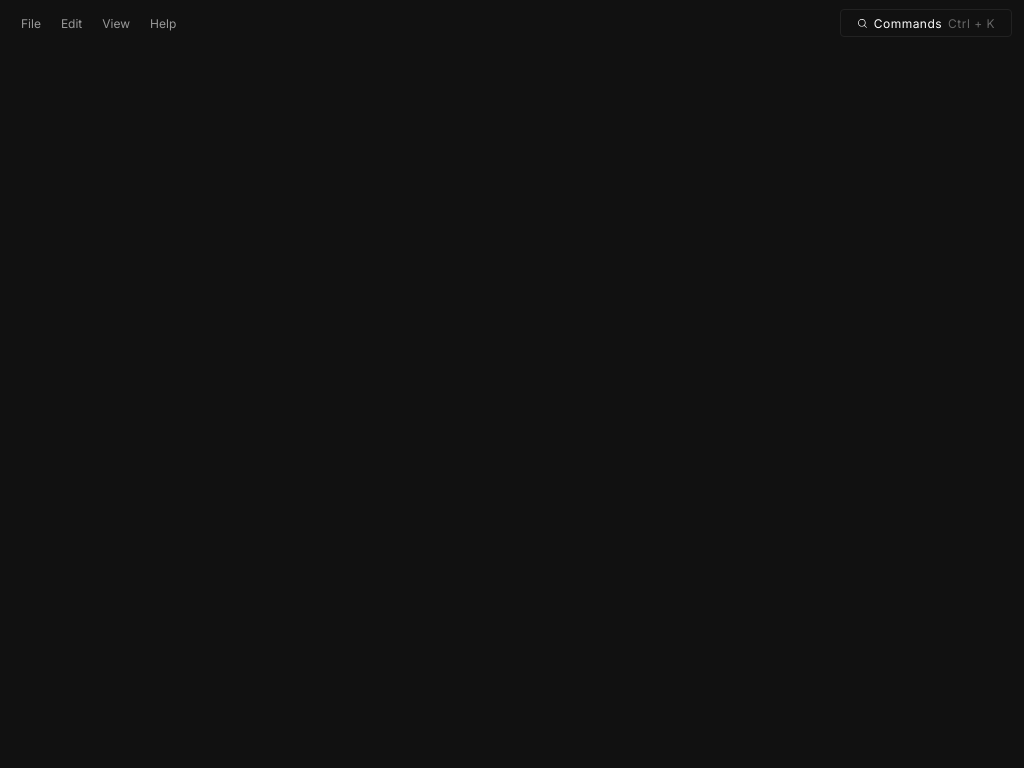
Test: context-aware application masthead › gives the reachable setup route menus, Help, a palette, and preserved navigation
Check: the button "Coda" is not shown
Click the menu item "File": (31, 23) x1=12 y1=9 x2=50 y2=37
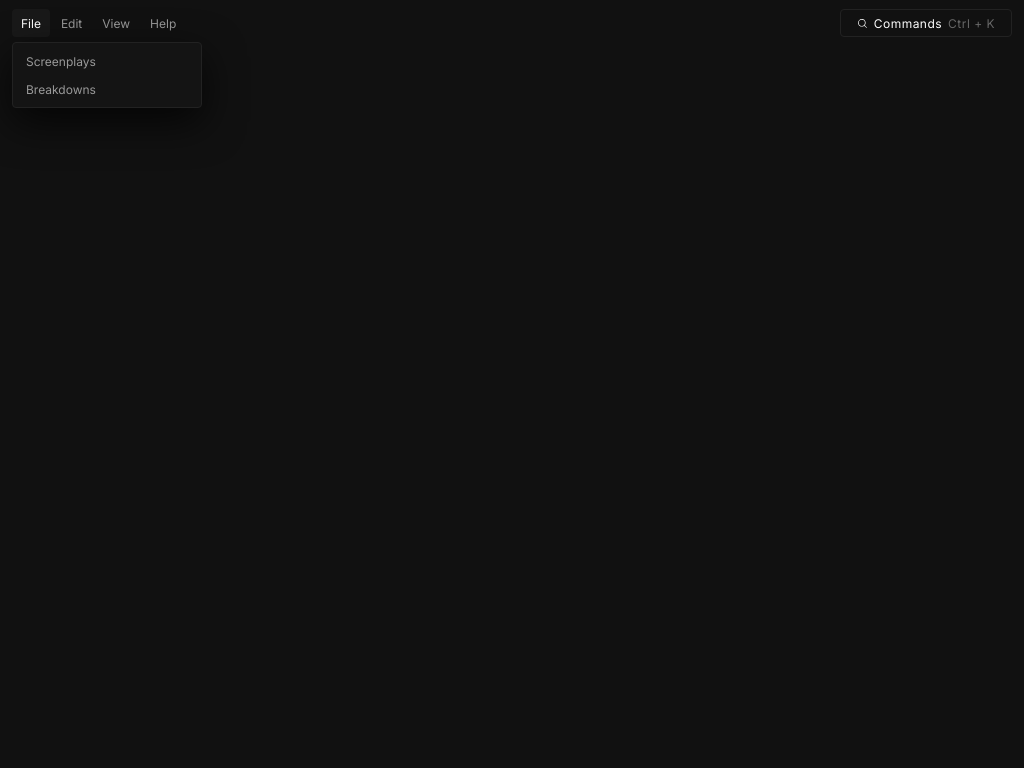
Click the menu item "Screenplays": (107, 61) x1=17 y1=47 x2=197 y2=75
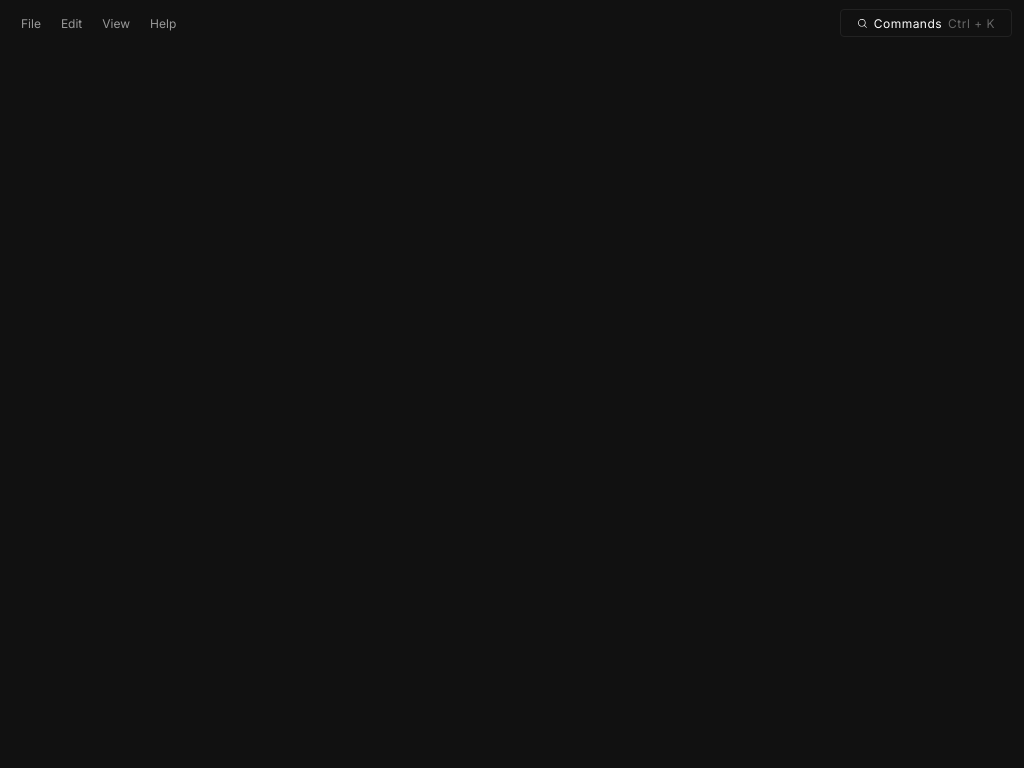
Check: the menu item "Help" is shown, box x1=141 y1=9 x2=185 y2=37
Click the button with aria-label "Open the command palette": (926, 23) x1=840 y1=9 x2=1012 y2=37
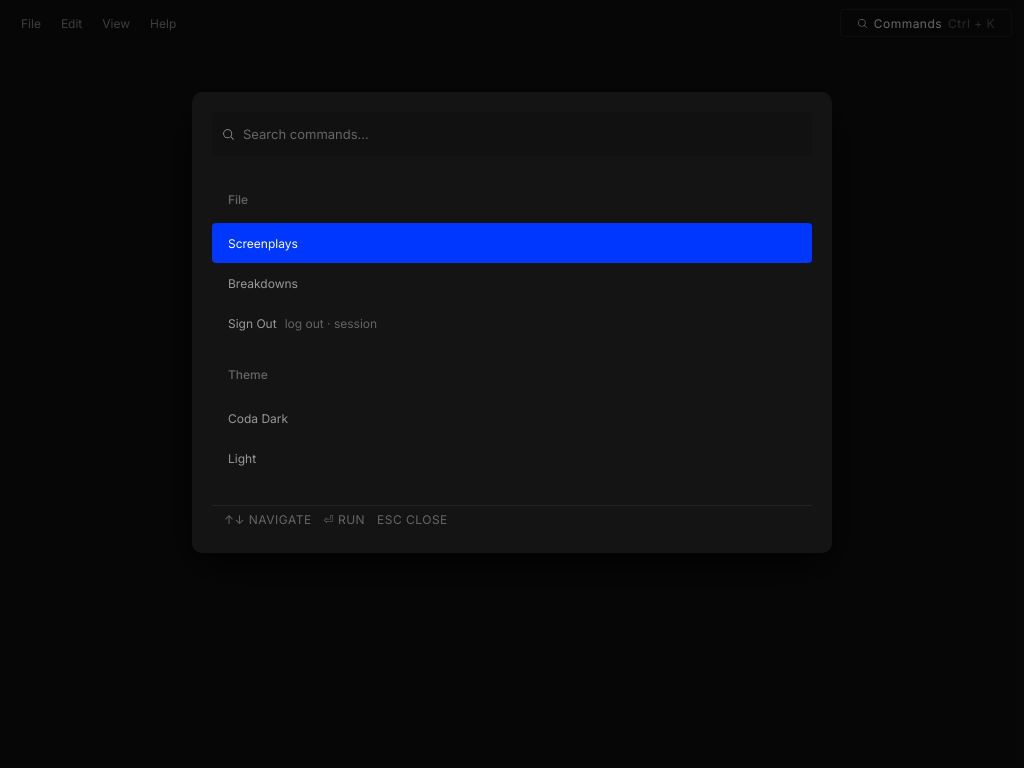
Check: the option "Breakdowns" is shown, box x1=228 y1=276 x2=298 y2=291
